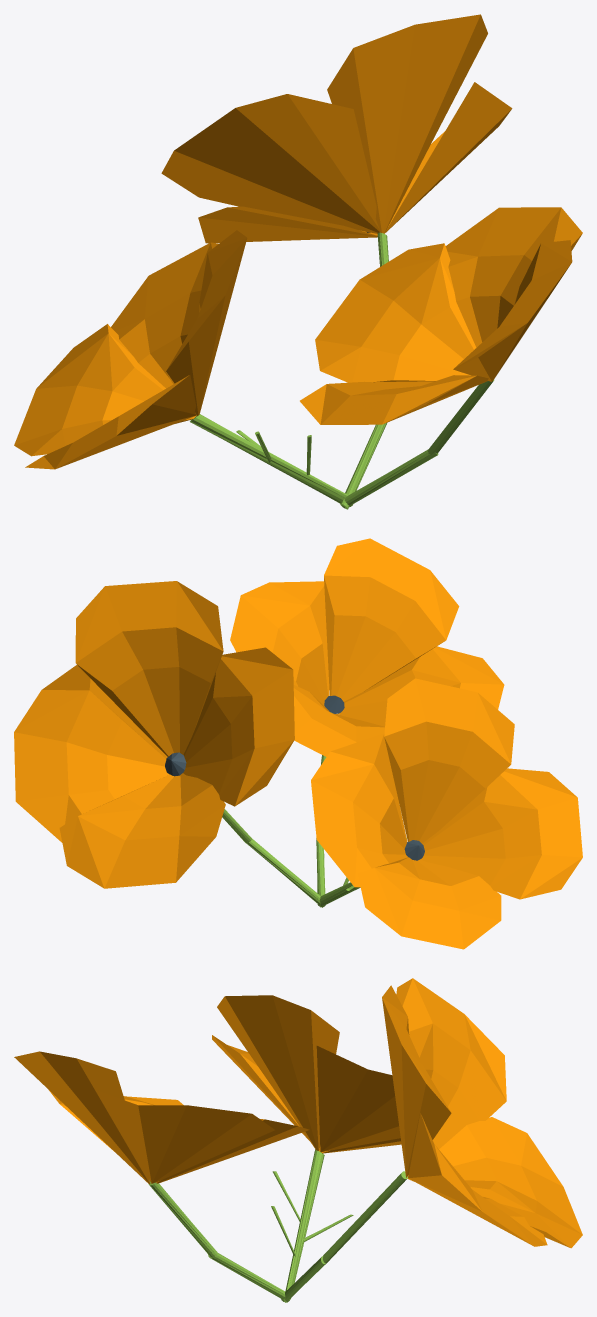
The model's file is plant29.glb.
The picture shows the model from 3 angles, top to bottom: view 1: azimuth 30°, elevation 25°; view 2: azimuth 150°, elevation 25°; view 3: azimuth 270°, elevation 25°; orthographic projection. The views are drawn at different scales.
Parts seen in each view (by area): view 1: group2063671471, group739456303, group1766590005, group1565881041, group100787416, group720462108, group2076172456; view 2: group2063671471, group1766590005, group739456303, group2076172456; view 3: group2063671471, group1766590005, group739456303, group1565881041, group775990818, group720462108, group100787416, group2076172456.
Part boxes in pixels (x1,y1,x2,y2): group2063671471: (161, 14, 512, 243); group739456303: (300, 207, 582, 424); group1766590005: (14, 230, 247, 469); group1565881041: (190, 414, 352, 507); group100787416: (341, 449, 438, 508); group720462108: (428, 380, 494, 455); group2076172456: (340, 423, 386, 509); group2063671471: (14, 581, 294, 888); group1766590005: (311, 678, 582, 949); group739456303: (230, 538, 504, 756); group2076172456: (246, 839, 323, 907); group2063671471: (382, 978, 582, 1248); group1766590005: (212, 995, 401, 1153); group739456303: (14, 1051, 309, 1184); group1565881041: (283, 1149, 324, 1302); group775990818: (323, 1171, 407, 1265); group720462108: (148, 1180, 218, 1259); group100787416: (208, 1253, 290, 1301); group2076172456: (281, 1256, 325, 1301).
Size of the model in its own units: 0.2406 by 0.1653 by 0.2385.
